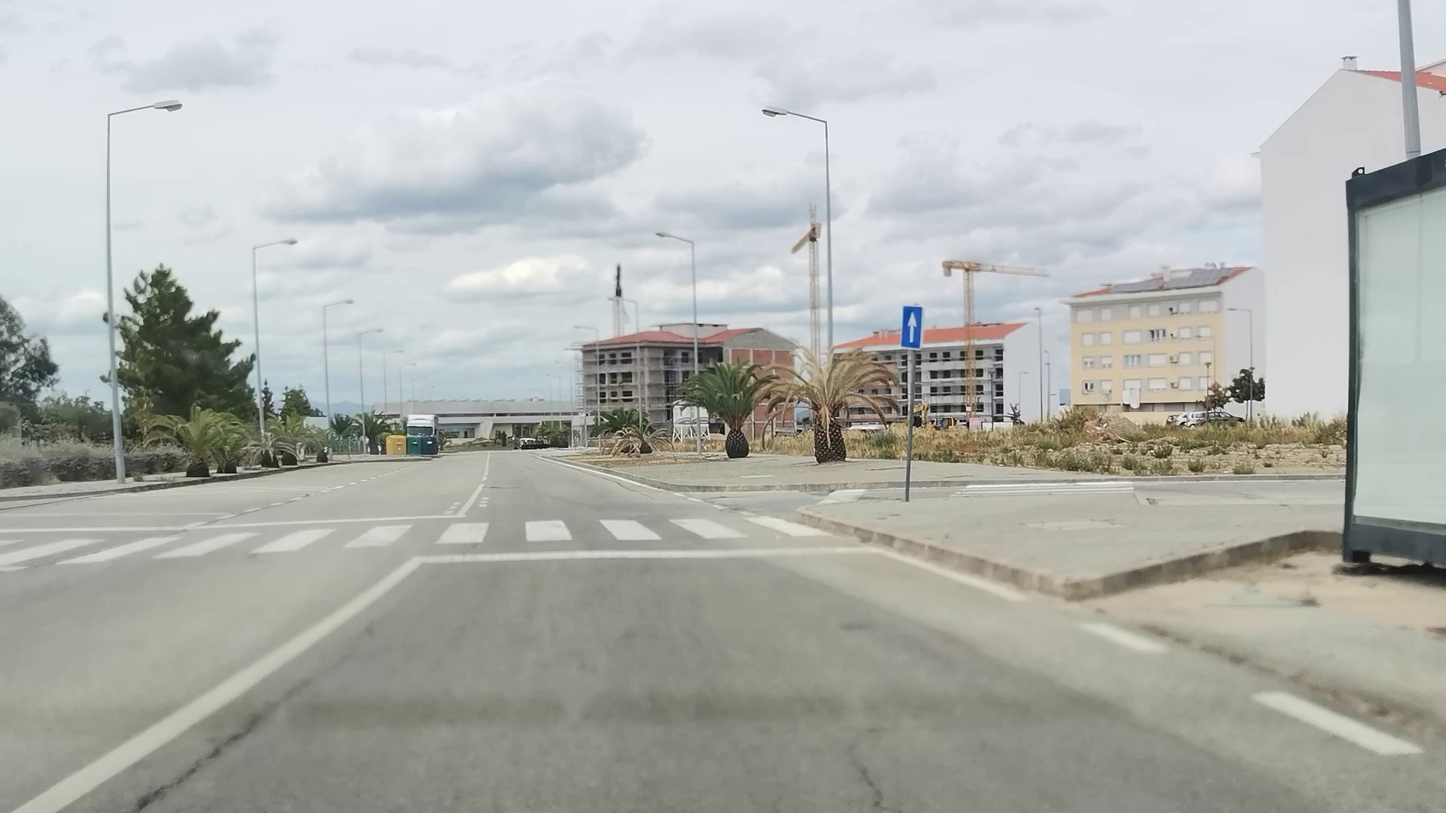Stairs: (0, 513, 830, 568)
